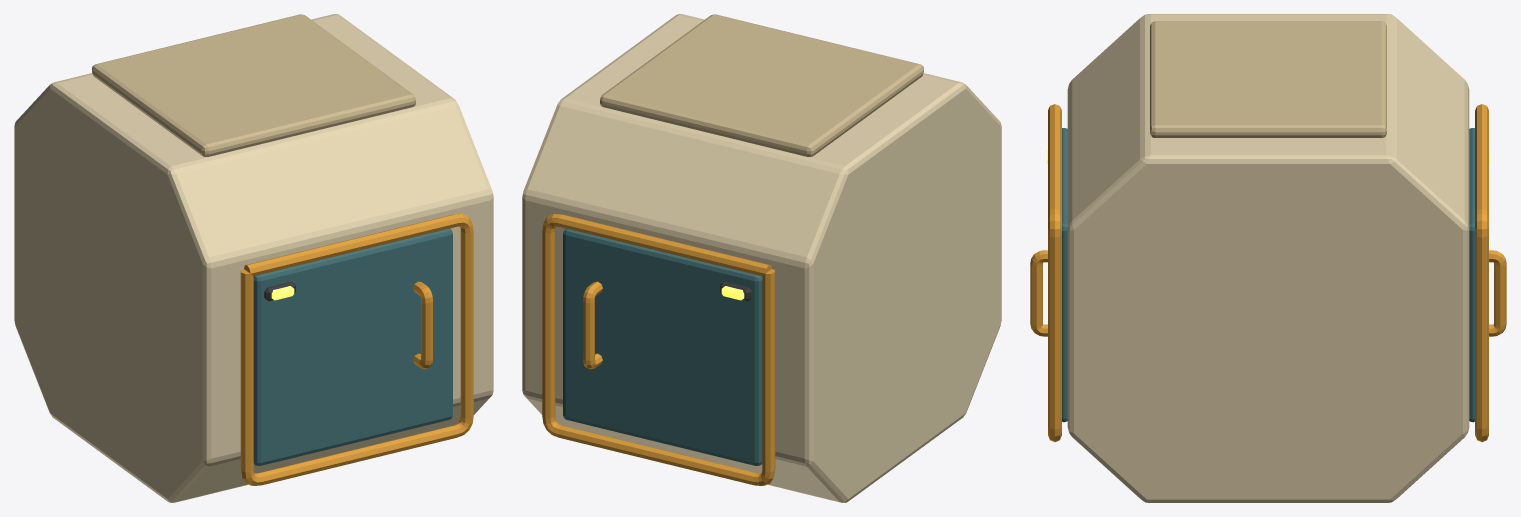
The model's file is cargo-mk1.glb.
3 views of the same model, side by side, from view 1: azimuth 30°, elevation 25°; view 2: azimuth 150°, elevation 25°; view 3: azimuth 270°, elevation 25° (orthographic). The views are drawn at different scales.
Parts seen in each view (by area): view 1: cargo_mk1 body; view 2: cargo_mk1 body; view 3: cargo_mk1 body.
Boxes of the visible parts, box(x1,y1,x2,y2) form: cargo_mk1 body: box(14, 14, 493, 502); cargo_mk1 body: box(522, 14, 1001, 502); cargo_mk1 body: box(1030, 14, 1506, 502).
Size of the model in its own units: 1.9 by 2.17 by 2.61.
